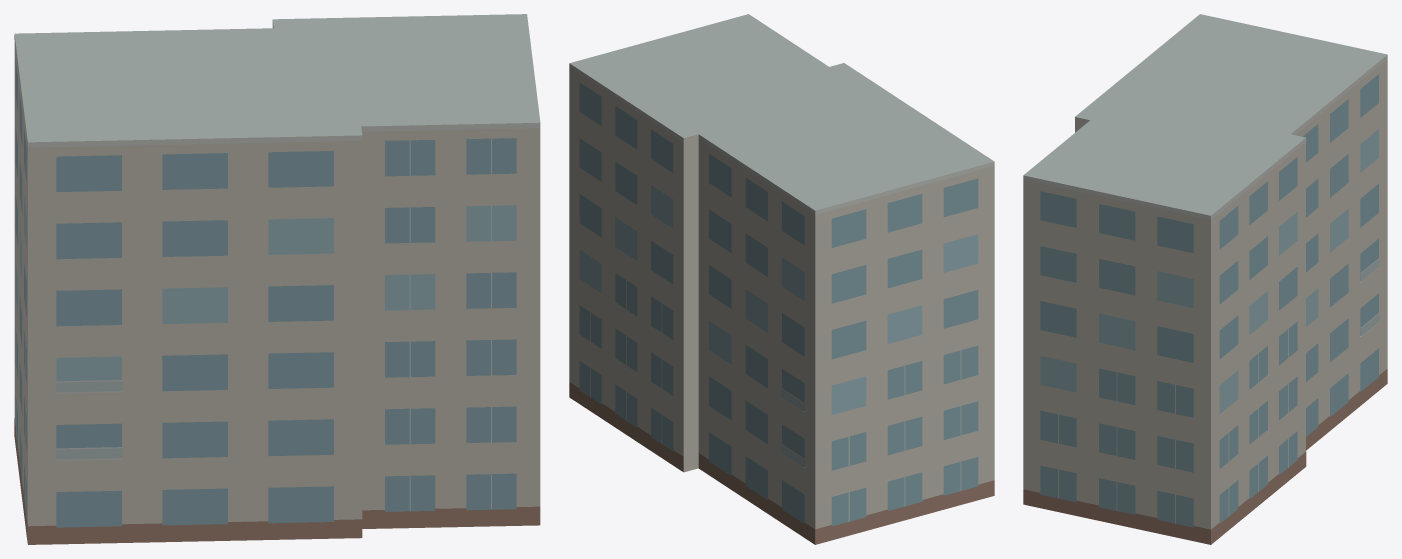
Rendered from survey-upis-32950557.glb.
3 views of the same model, side by side, from view 1: azimuth 30°, elevation 25°; view 2: azimuth 150°, elevation 25°; view 3: azimuth 270°, elevation 25° (orthographic). The views are drawn at different scales.
Parts seen in each view (by area): view 1: survey-upis-32950557.tmp; view 2: survey-upis-32950557.tmp; view 3: survey-upis-32950557.tmp.
Part boxes in pixels (bbox=[...]): survey-upis-32950557.tmp: bbox=[14, 14, 540, 544]; survey-upis-32950557.tmp: bbox=[569, 14, 994, 544]; survey-upis-32950557.tmp: bbox=[1023, 14, 1387, 544].
Size of the model in its own units: 24.79 by 18.85 by 18.93.
